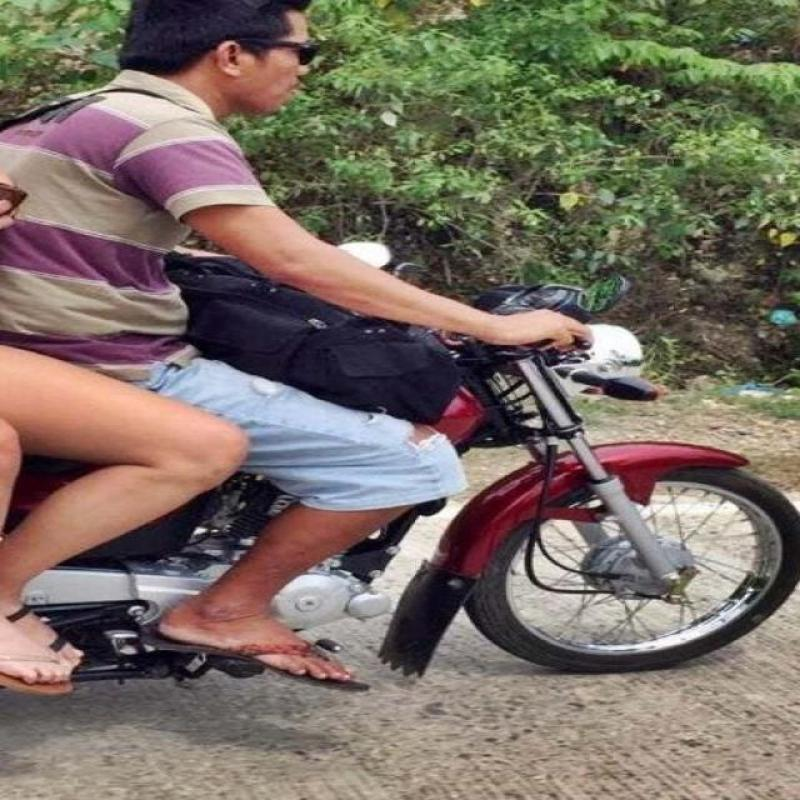nohelmet: (108, 0, 337, 121)
